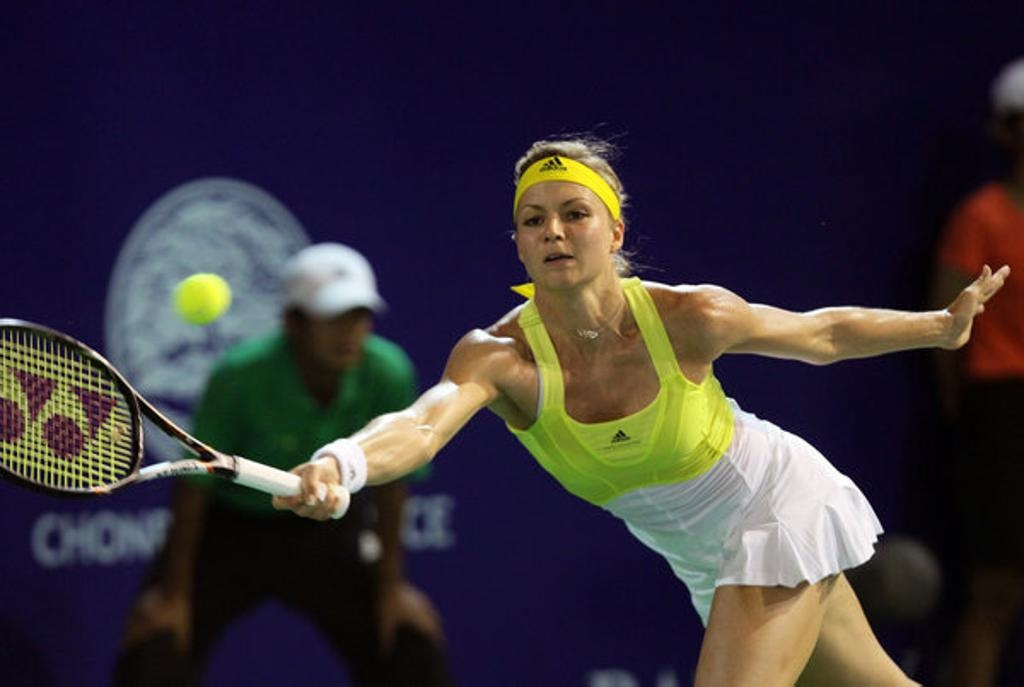face: (514, 180, 612, 286), (302, 298, 374, 372)
